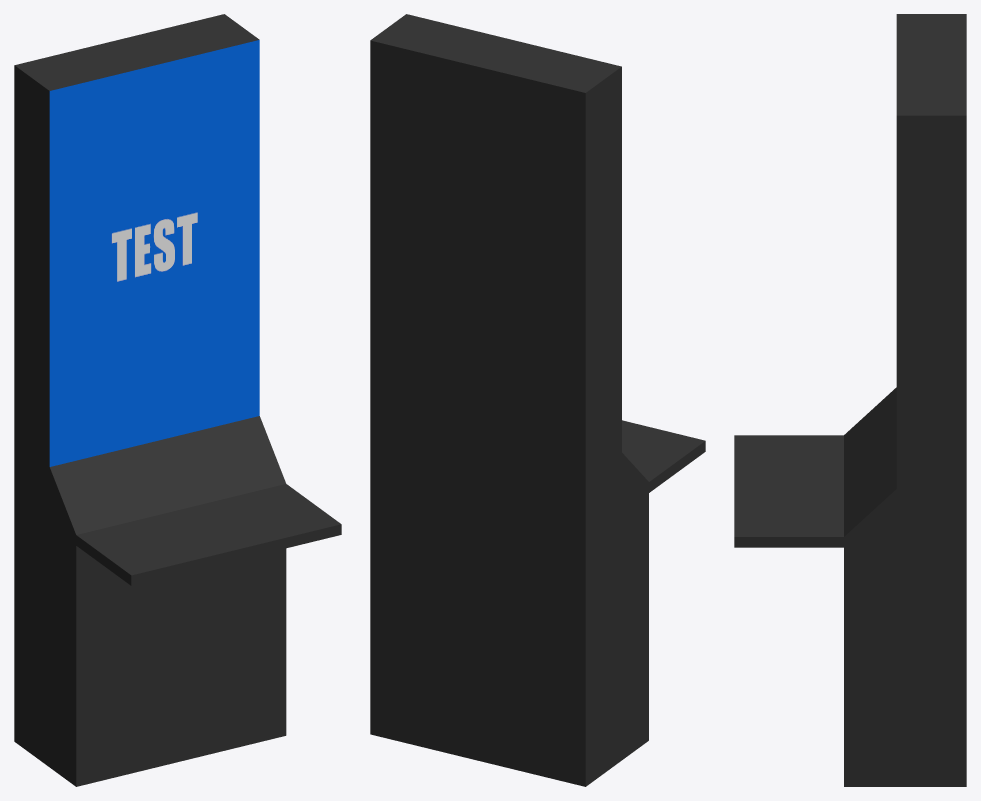
The model's file is test_scale1000.obj.
3 views of the same model, side by side, from view 1: azimuth 30°, elevation 25°; view 2: azimuth 150°, elevation 25°; view 3: azimuth 270°, elevation 25° (orthographic). The views are drawn at different scales.
Parts seen in each view (by area): view 1: Default, screen; view 2: Default; view 3: Default.
Part boxes in pixels (x1,y1,x2,y2): Default: [14, 14, 341, 786]; screen: [49, 40, 259, 466]; Default: [370, 14, 705, 786]; Default: [734, 14, 966, 786].
Bounding box in the file's own units: 705 × 2171 × 681.
